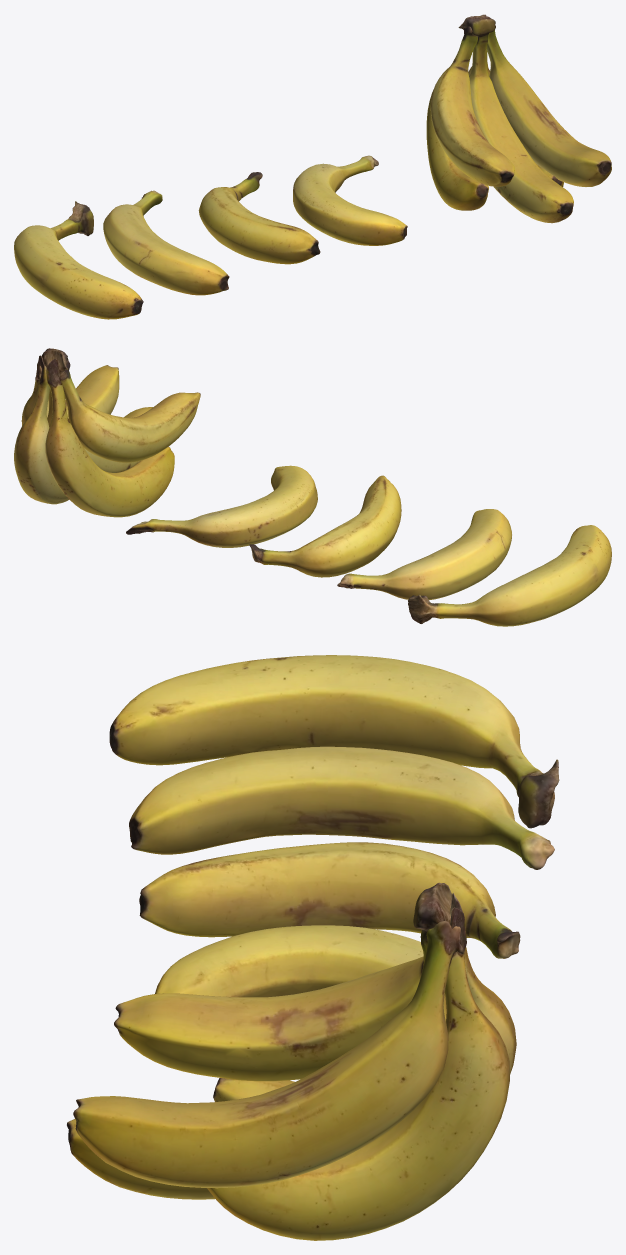
File: bananas.glb
3 renders of one model, top to bottom at view 1: azimuth 30°, elevation 25°; view 2: azimuth 150°, elevation 25°; view 3: azimuth 270°, elevation 25°, orthographic. The views are drawn at different scales.
Visible parts, largest first — view 1: bananas_bunch; view 2: bananas_bunch; view 3: bananas_bunch.
Boxes of the visible parts, box(x1,y1,x2,y2) form: bananas_bunch: box(14, 14, 611, 319); bananas_bunch: box(14, 348, 611, 626); bananas_bunch: box(67, 655, 559, 1240).
Size of the model in its own units: 0.6 by 0.1788 by 0.2441.
Materials: 1 (1 with a texture image).
